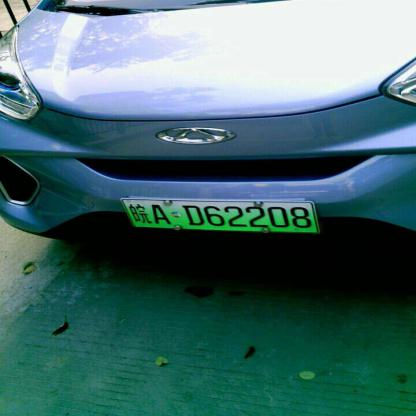lp: (119, 197, 319, 233)
